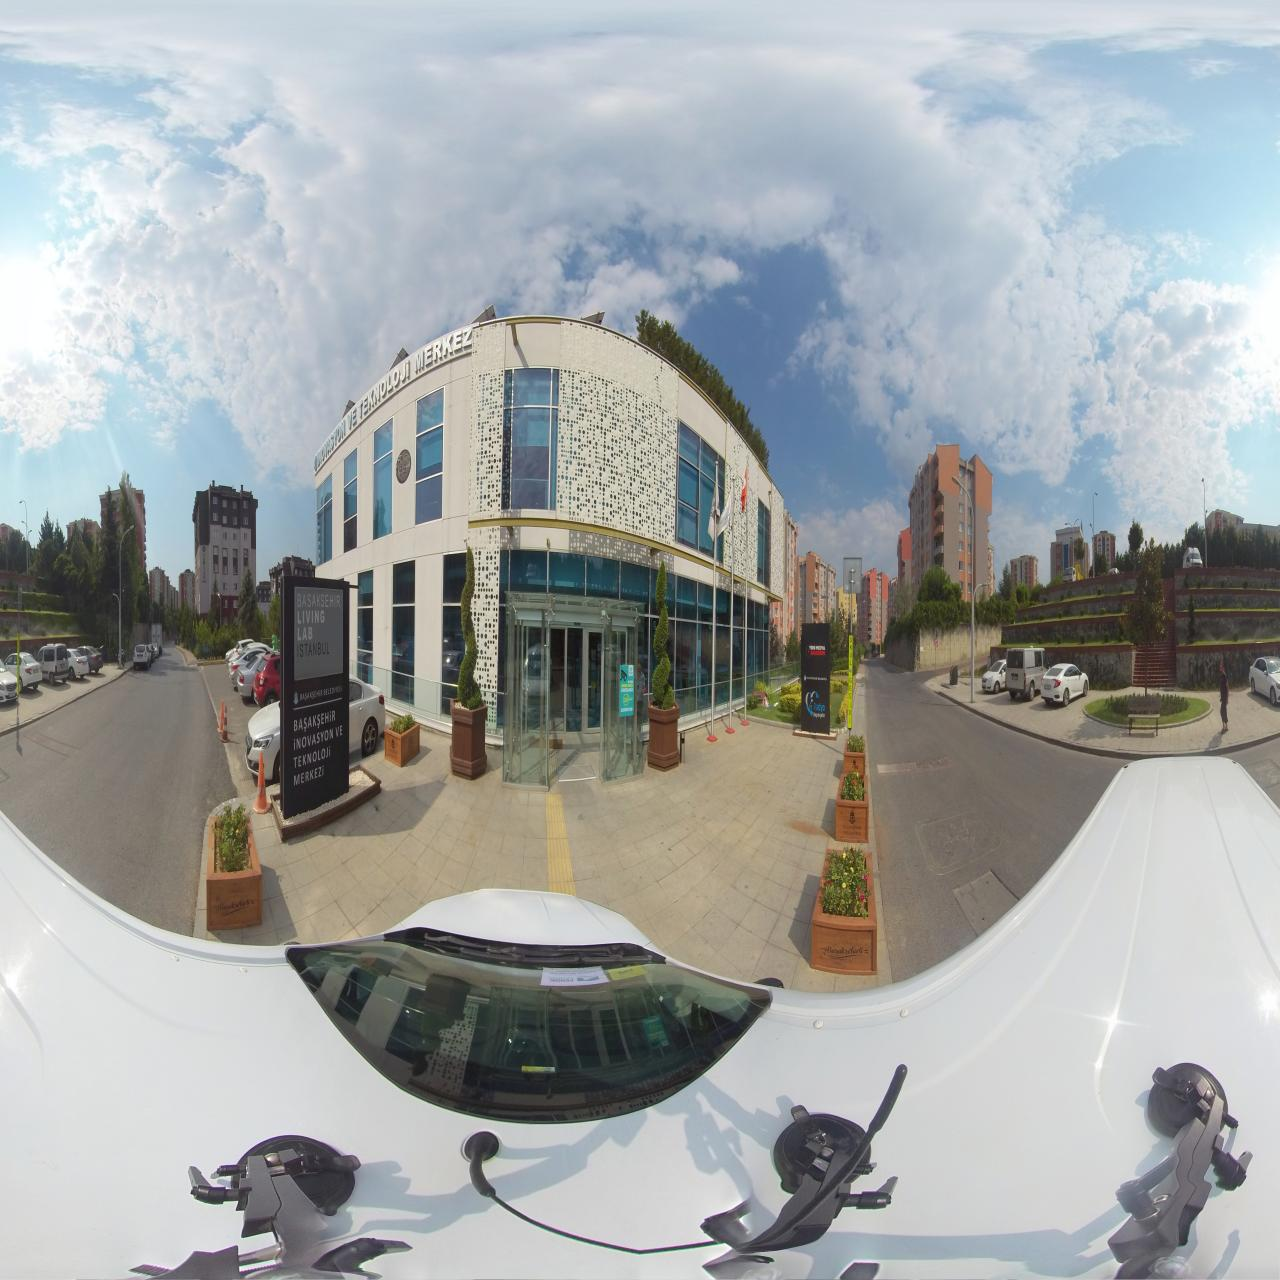SignStore: (314, 324, 474, 475)
